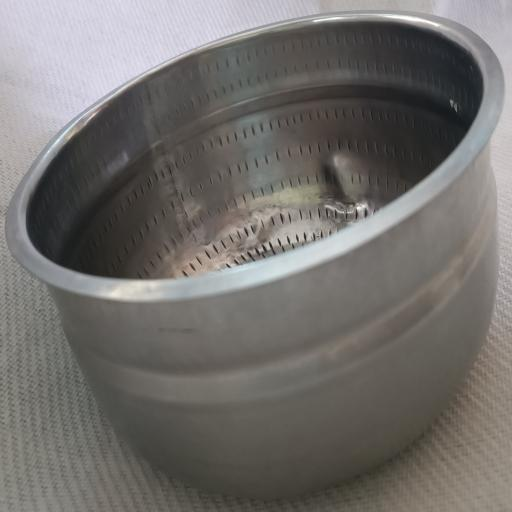vessel: (6, 12, 504, 498)
